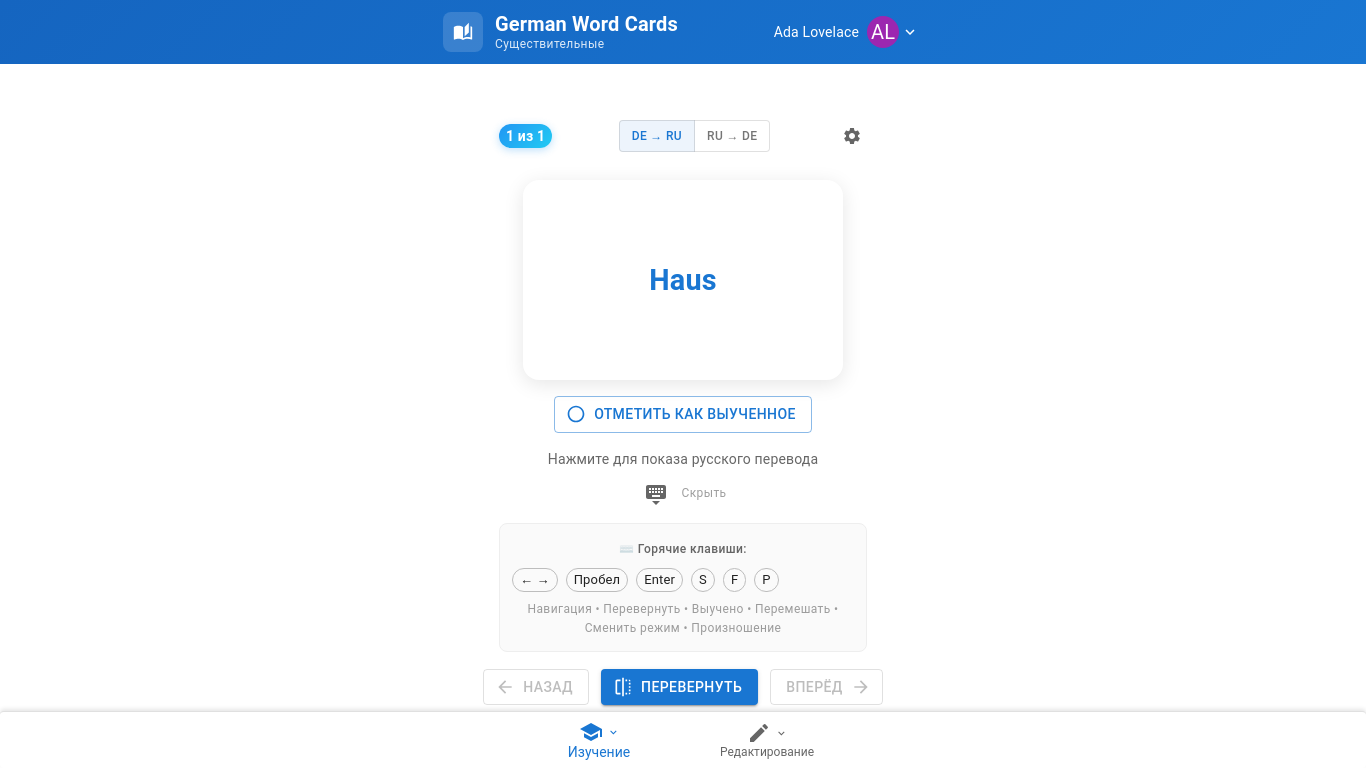
Test: AuthenticatedApp shared shell › authenticated shell keeps editing and non admin restrictions
Expected: the text "German Word Cards" is shown, [495,12,678,36]
Expected: the button "Редактирование" is enabled, [683,712,851,767]
Step 1. Click the button with aria-label "Открыть меню пользователя" → coordinates (893, 32), box [863,10,923,54]
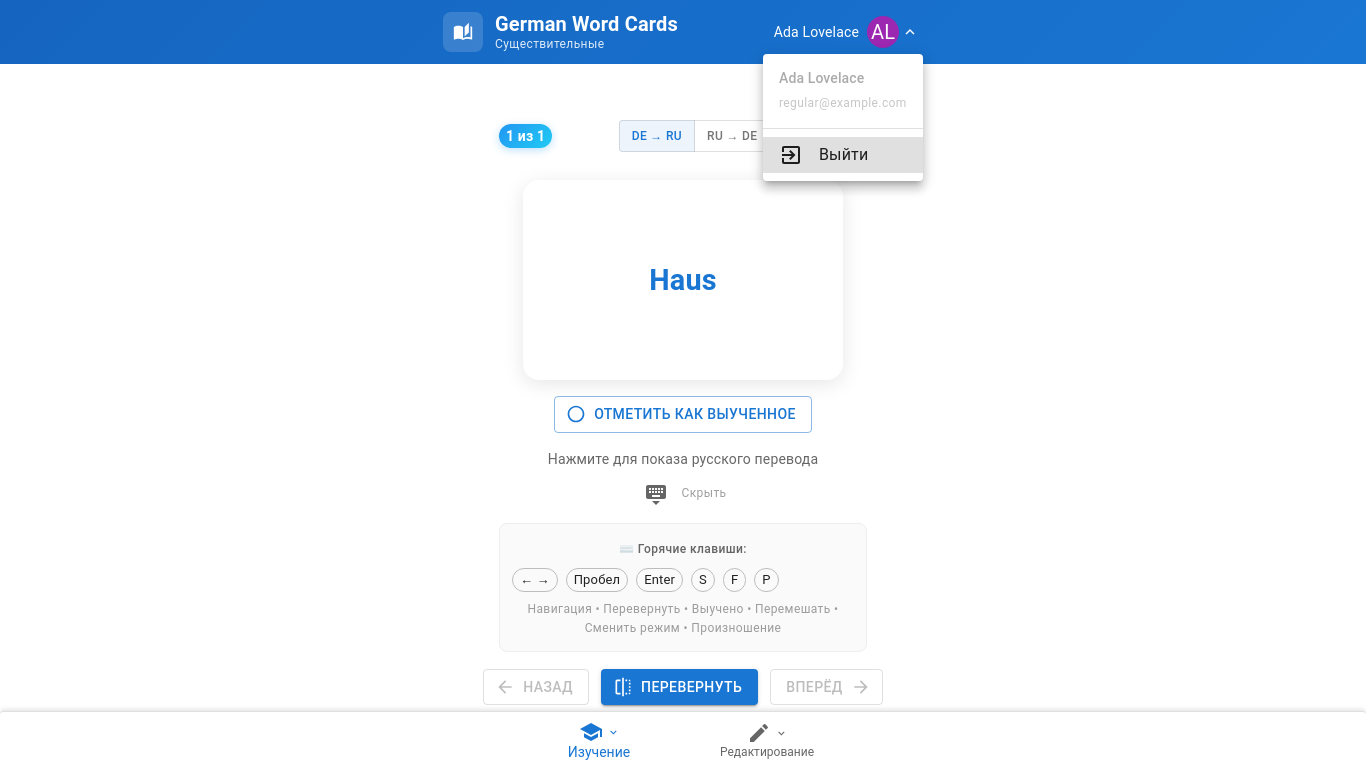
Now the menu item "Выйти" is shown, box [763,137,923,173]
Step 2. Press Escape
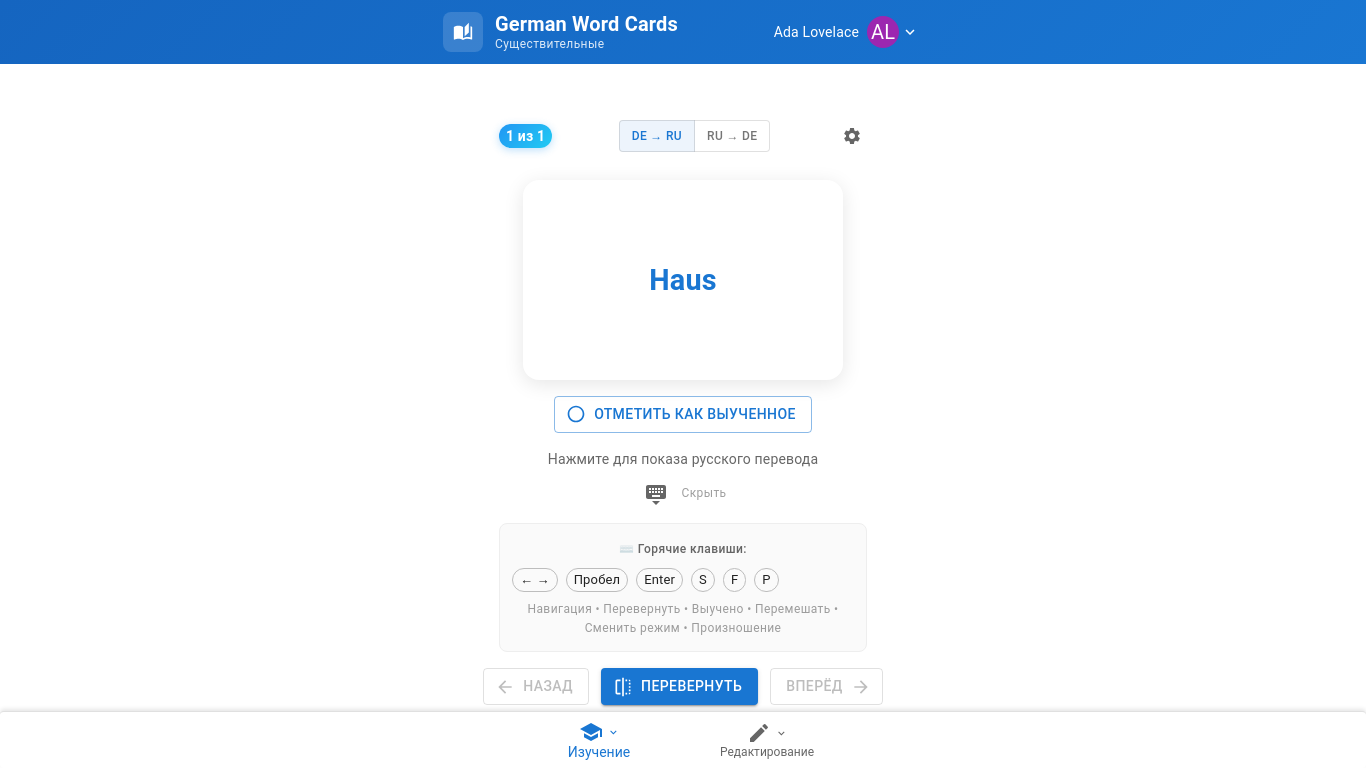
Now the menu item "Выйти" is gone
Step 3. Click the button "Редактирование" → coordinates (767, 740), box [683,712,851,767]
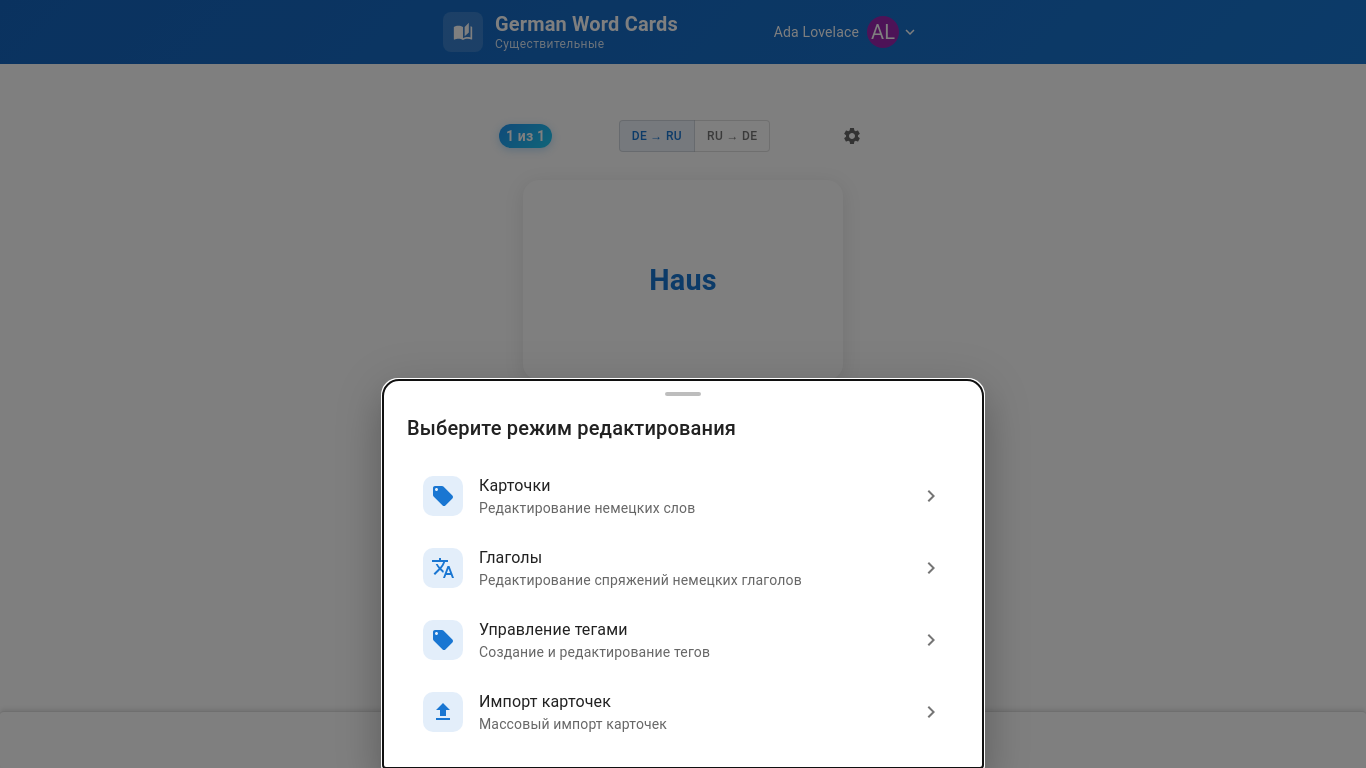
Now the heading "Выберите режим редактирования" is shown, box [407,416,736,440]
Step 4. Click the button "Импорт карточек Массовый импорт карточек" → coordinates (443, 712), box [423,692,943,732]
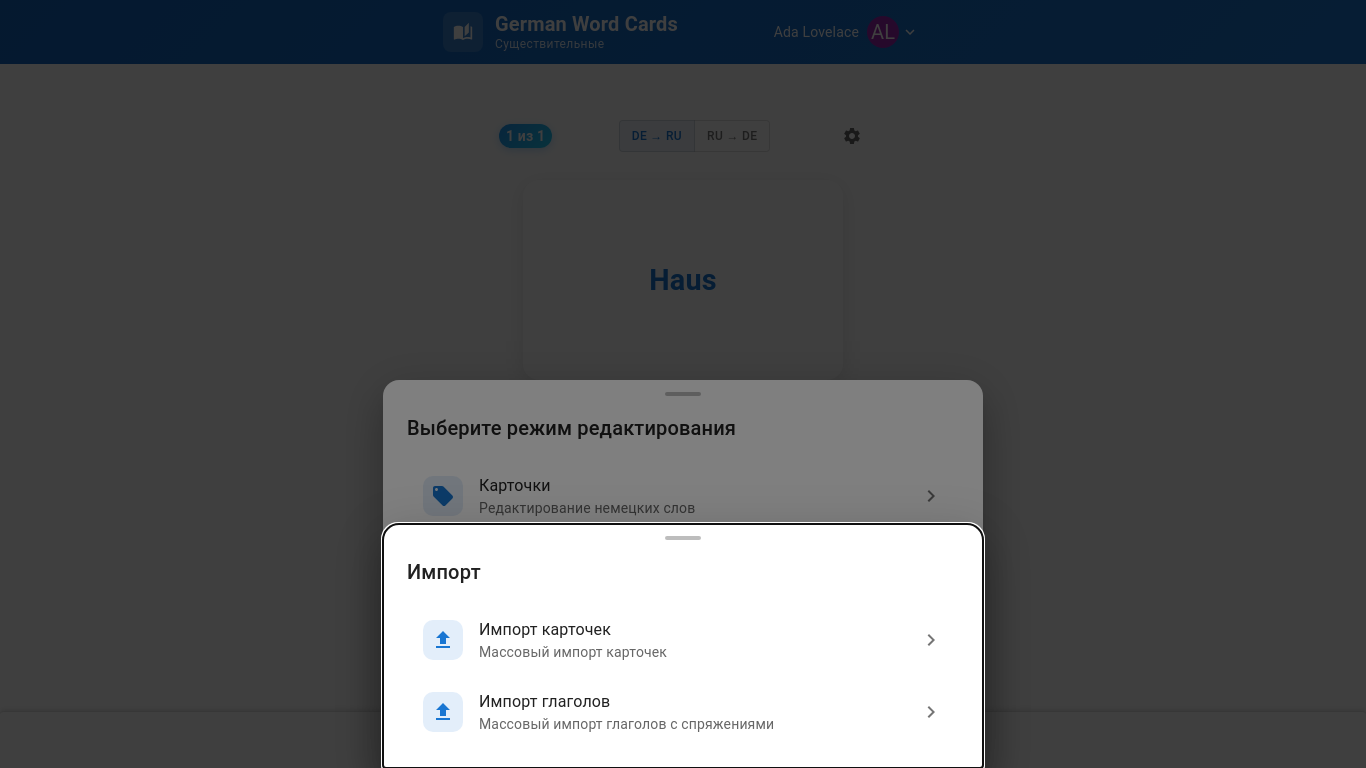
Now the heading "Импорт" is shown, box [407,560,481,584]
Step 5. Press Escape
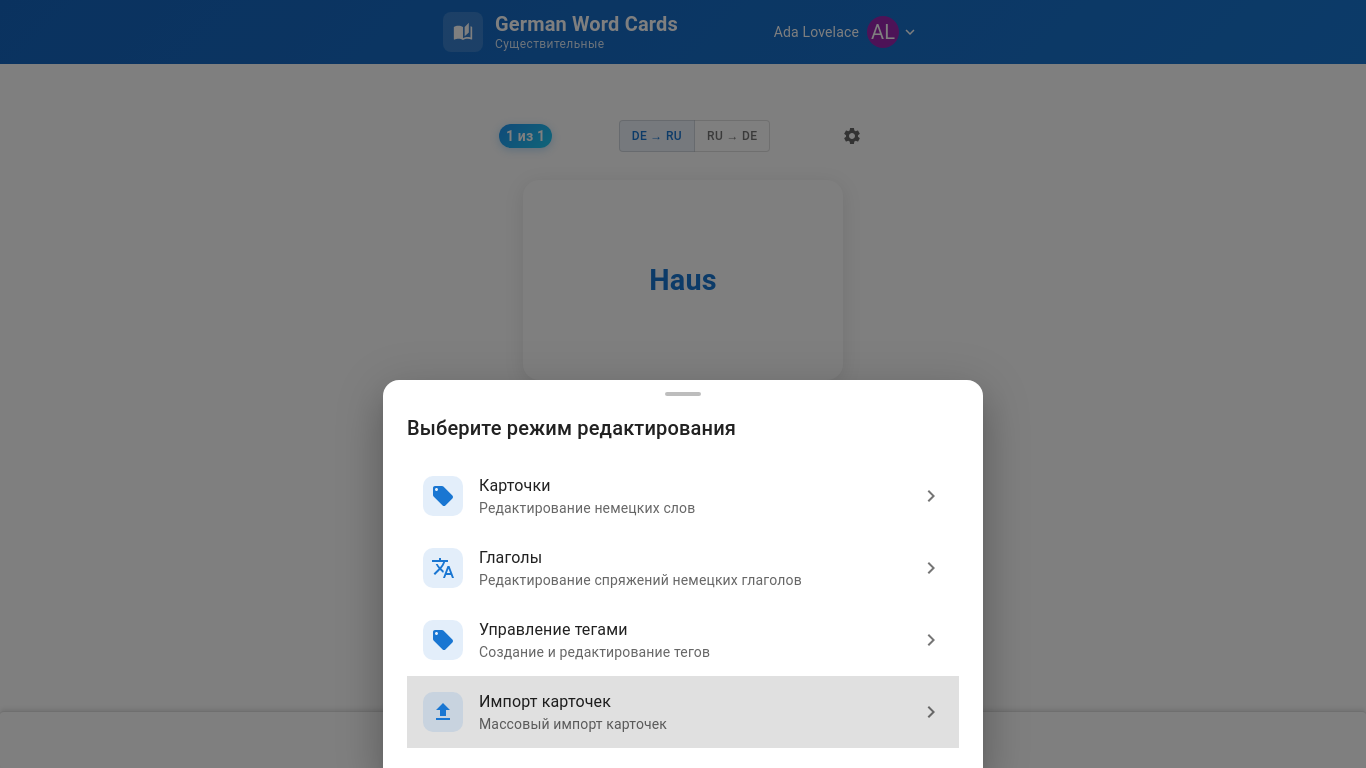
Step 6. Click the button "Управление тегами Создание и редактирование тегов" → coordinates (443, 640), box [423,620,943,660]
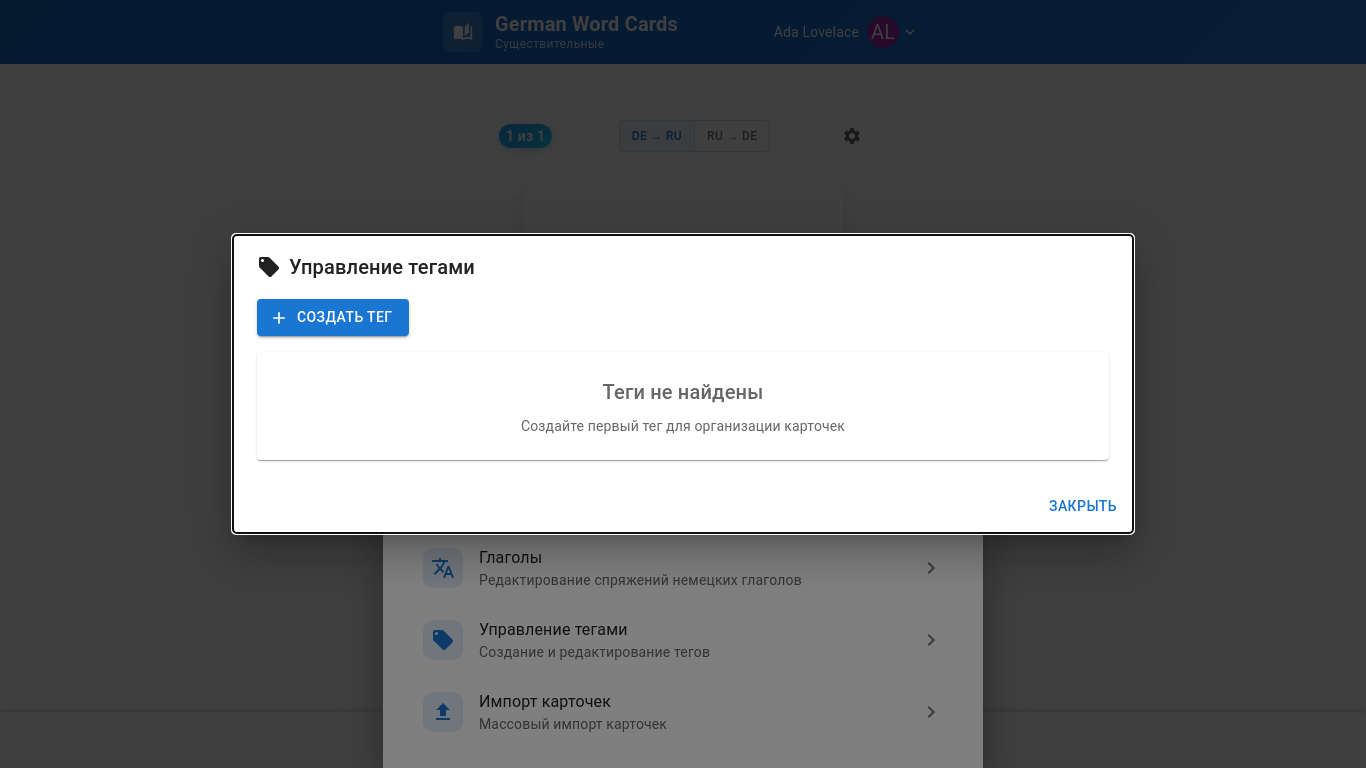
Now the heading "Управление тегами" is shown, box [257,256,475,280]
